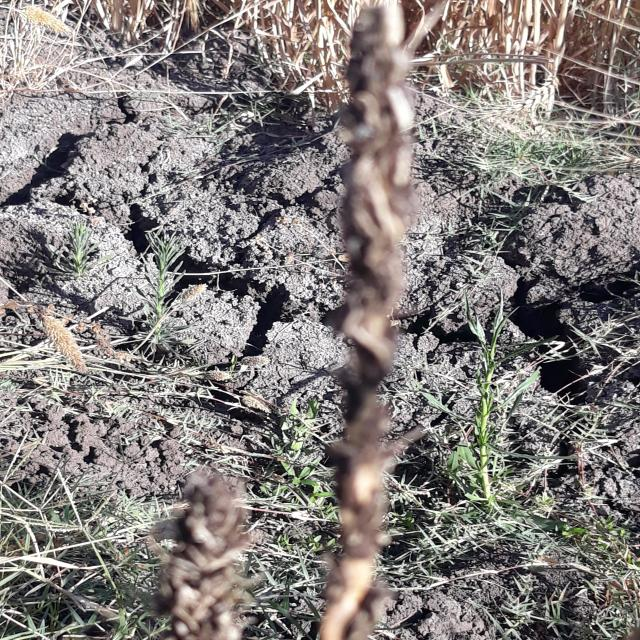loose_charred: (298, 0, 469, 640), (126, 440, 285, 640)
